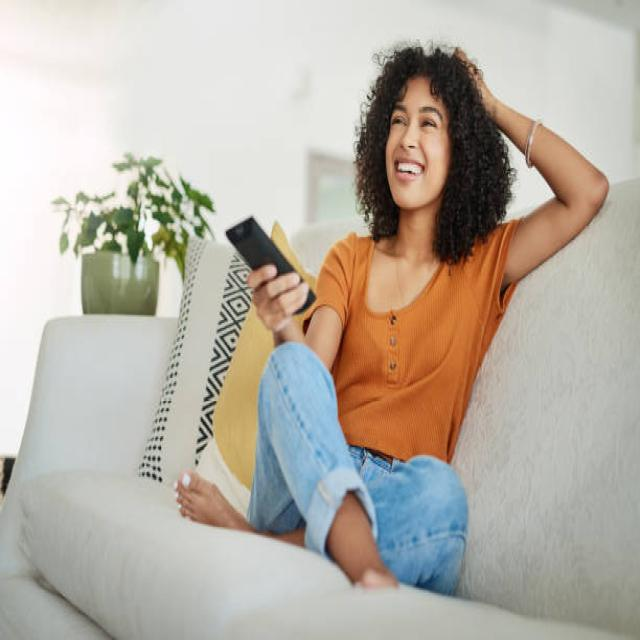Real human 2: (193, 22, 620, 616)
